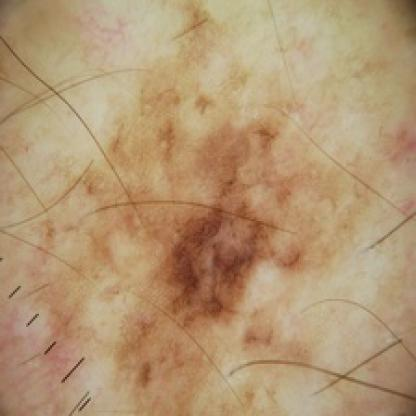malignant: (93, 89, 336, 333)
